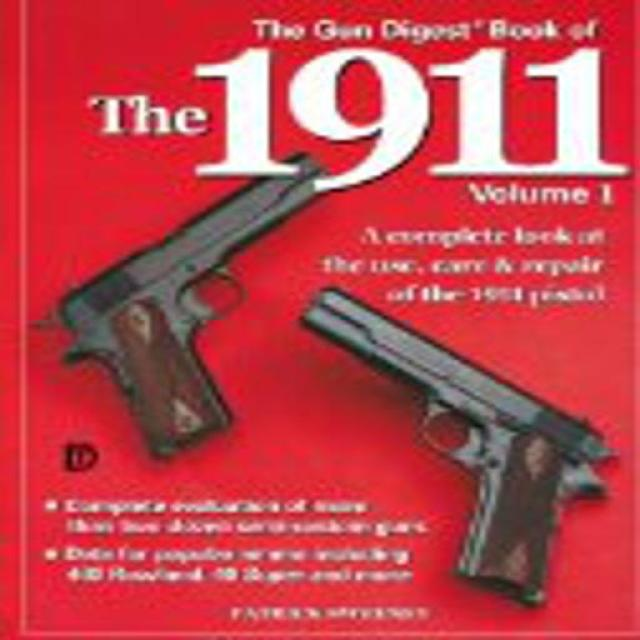pistol: (284, 280, 614, 607), (41, 147, 335, 460)
